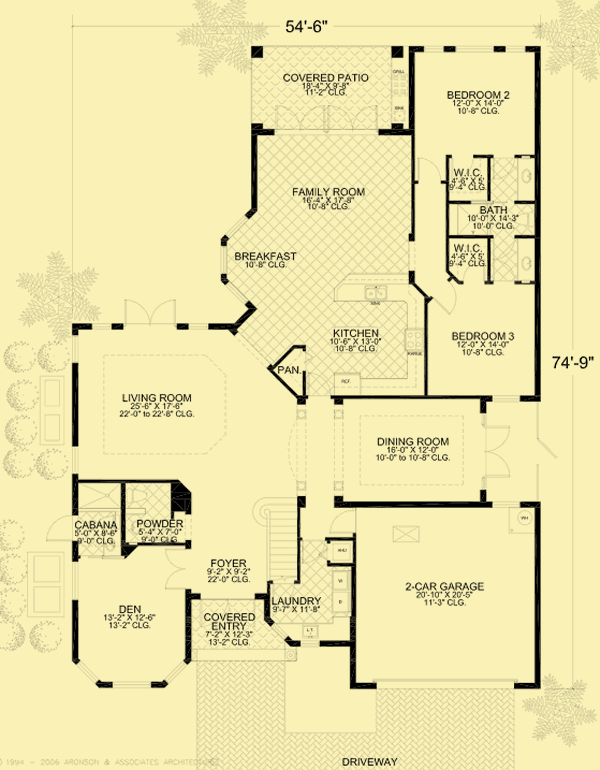these are stairs from entry: (254, 492, 301, 583)
this is a bathroom: (485, 155, 537, 280), (122, 481, 177, 545)
